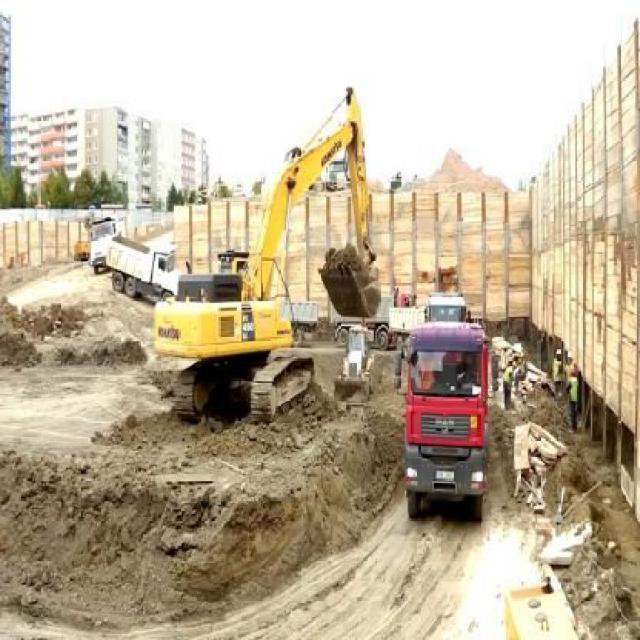Dump Truck: (394, 319, 500, 523), (106, 229, 183, 303), (388, 291, 472, 357), (332, 286, 416, 351), (87, 209, 131, 273), (278, 296, 322, 346)
Excavator: (152, 83, 379, 426)
